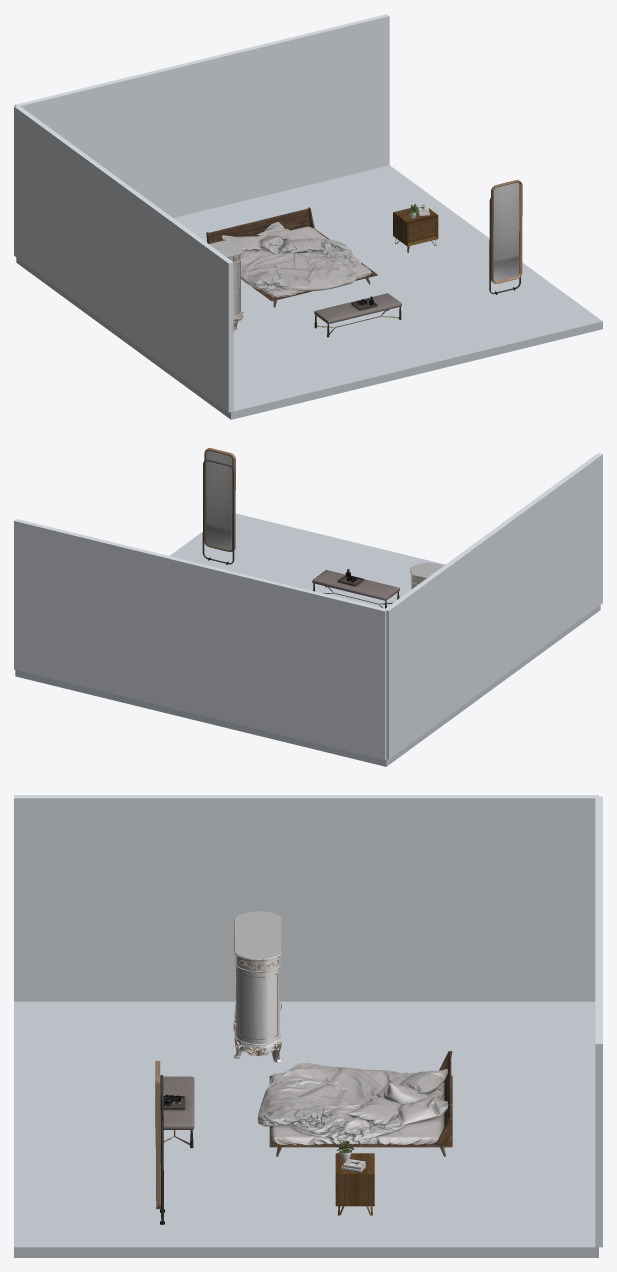
File: stage2.glb
3 views of the same model, one above another, from view 1: azimuth 30°, elevation 25°; view 2: azimuth 150°, elevation 25°; view 3: azimuth 270°, elevation 25° (orthographic). The views are drawn at different scales.
Parts seen in each view (by area): view 1: Floor, wall_back, wall_left, raw_model, raw_model.003, raw_model.001, solid_001, raw_model.002; view 2: wall_back, wall_left, Floor, raw_model.003, solid_001, raw_model.002; view 3: Floor, wall_left, raw_model, raw_model.002, wall_back, raw_model.001, solid_001, raw_model.003.
Boxes of the visible parts, bbox=[...] form: Floor: bbox=[16, 165, 602, 419]; wall_back: bbox=[15, 14, 389, 217]; wall_left: bbox=[14, 106, 233, 412]; raw_model: bbox=[206, 207, 377, 307]; raw_model.003: bbox=[489, 180, 522, 294]; raw_model.001: bbox=[393, 204, 438, 252]; solid_001: bbox=[314, 293, 401, 324]; raw_model.002: bbox=[209, 240, 243, 332]; wall_back: bbox=[14, 519, 387, 759]; wall_left: bbox=[385, 453, 602, 759]; Floor: bbox=[15, 513, 600, 766]; raw_model.003: bbox=[202, 448, 235, 564]; solid_001: bbox=[312, 570, 399, 600]; raw_model.002: bbox=[409, 562, 443, 589]; Floor: bbox=[14, 1001, 598, 1257]; wall_left: bbox=[14, 795, 598, 1001]; raw_model: bbox=[257, 1051, 452, 1156]; raw_model.002: bbox=[233, 911, 281, 1062]; wall_back: bbox=[595, 796, 602, 1247]; raw_model.001: bbox=[335, 1141, 374, 1215]; solid_001: bbox=[155, 1076, 194, 1129]; raw_model.003: bbox=[155, 1061, 164, 1224].
Bounding box in the file's own units: 6.04 × 2.42 × 6.04.
Materials: 7 (5 with a texture image).
